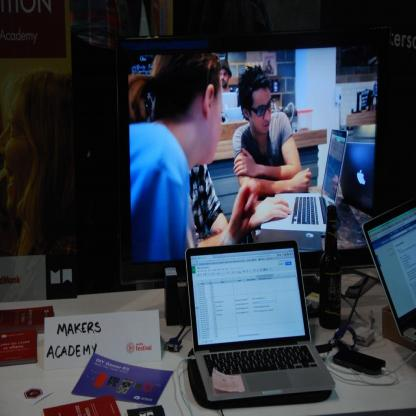board: (184, 243, 338, 411), (260, 129, 348, 237), (362, 199, 416, 345), (318, 206, 342, 330)
